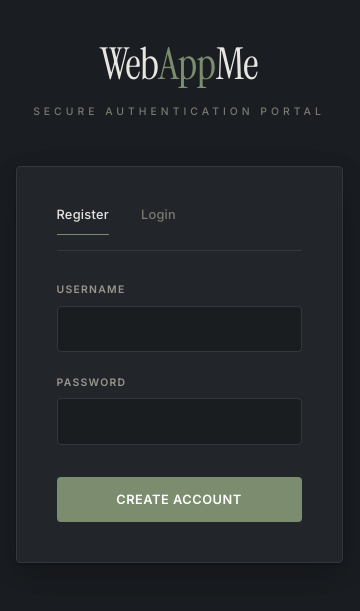
App › shows error on failed registration
The width and height of the screenshot is (360, 611).
Type "test" into the field labelled "Username" at (179, 329), box [56,306,302,352]
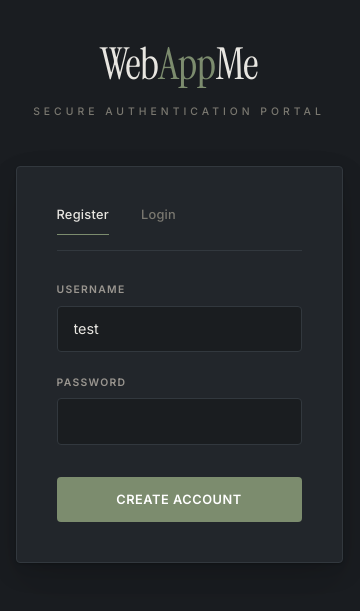
Type "password" into the password field labelled "Password" at (179, 422), box [56,398,302,445]
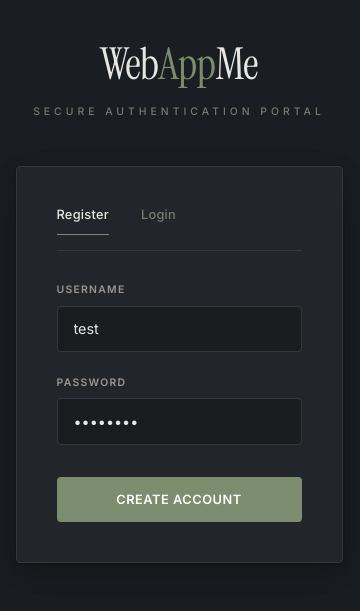
Click the button "Create Account" at (179, 499), box [56,477,302,522]
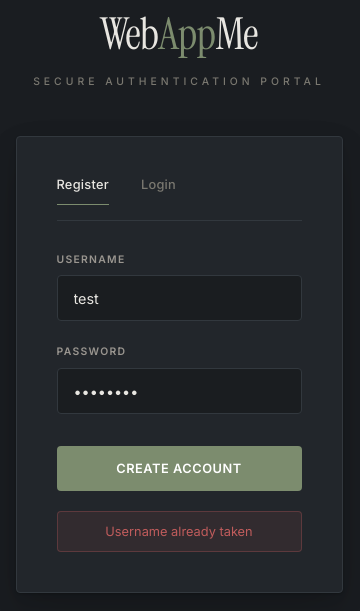
Expected: the text "Username already taken" is shown, [56,512,302,552]
